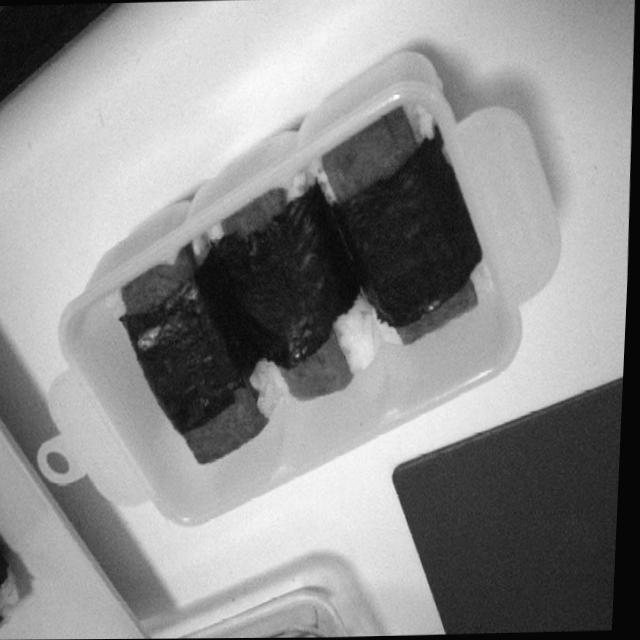寿司卷物: (19, 37, 566, 563)
